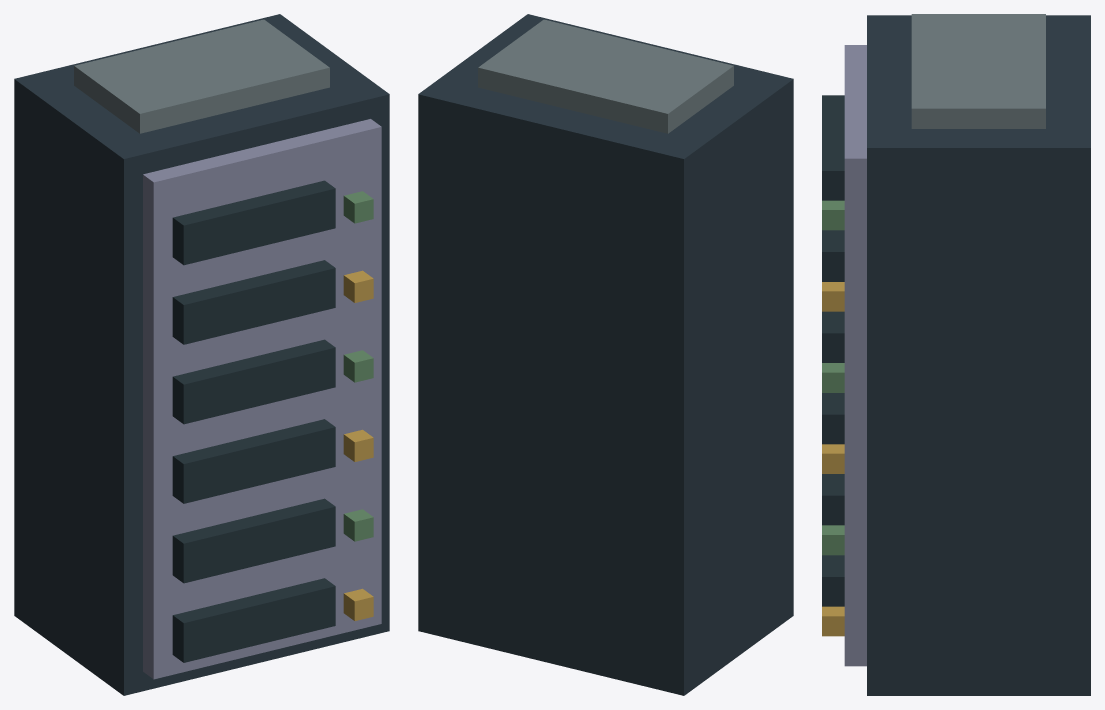
File: mathematics-16.glb
3 renders of one model, left to right at view 1: azimuth 30°, elevation 25°; view 2: azimuth 150°, elevation 25°; view 3: azimuth 270°, elevation 25°, orthographic. The views are drawn at different scales.
Parts seen in each view (by area): view 1: Data server; view 2: Data server; view 3: Data server.
Boxes of the visible parts, x1,y1,x2,y2 form: Data server: (14,14,389,695); Data server: (418,14,793,695); Data server: (822,14,1090,695).
Bounding box in the file's own units: 1.12 × 2.24 × 0.96.
